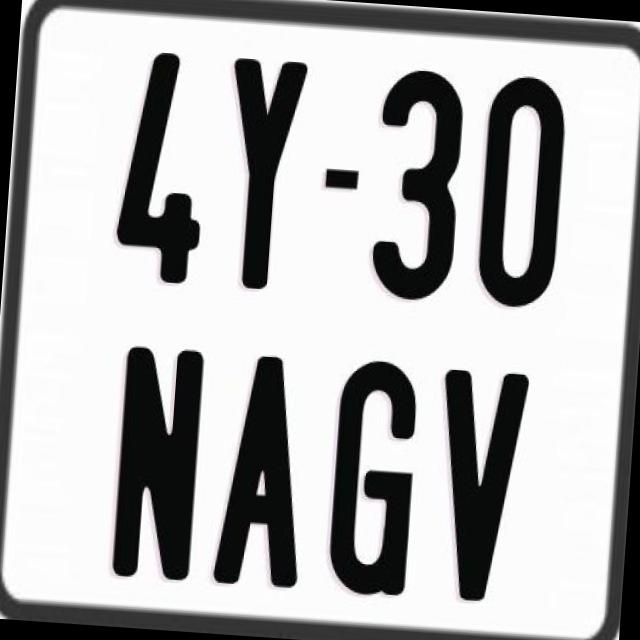0: (474, 70, 568, 310)
3: (365, 68, 463, 306)
4: (110, 46, 216, 288)
A: (212, 350, 318, 586)
G: (326, 353, 424, 597)
N: (108, 342, 207, 585)
V: (426, 368, 534, 610)
Y: (216, 55, 312, 294)
